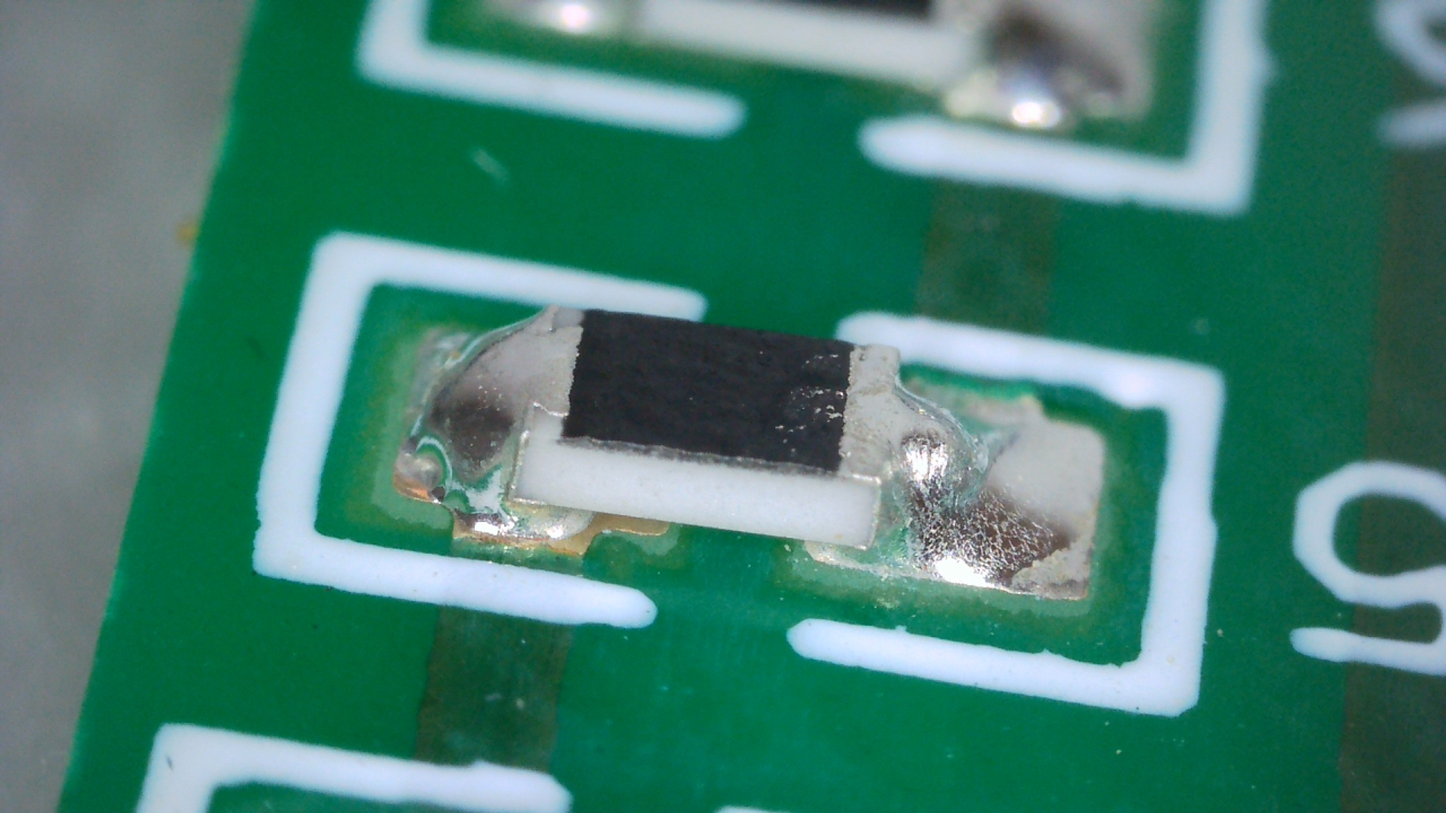NG: (409, 306, 582, 492), (888, 390, 975, 521)
